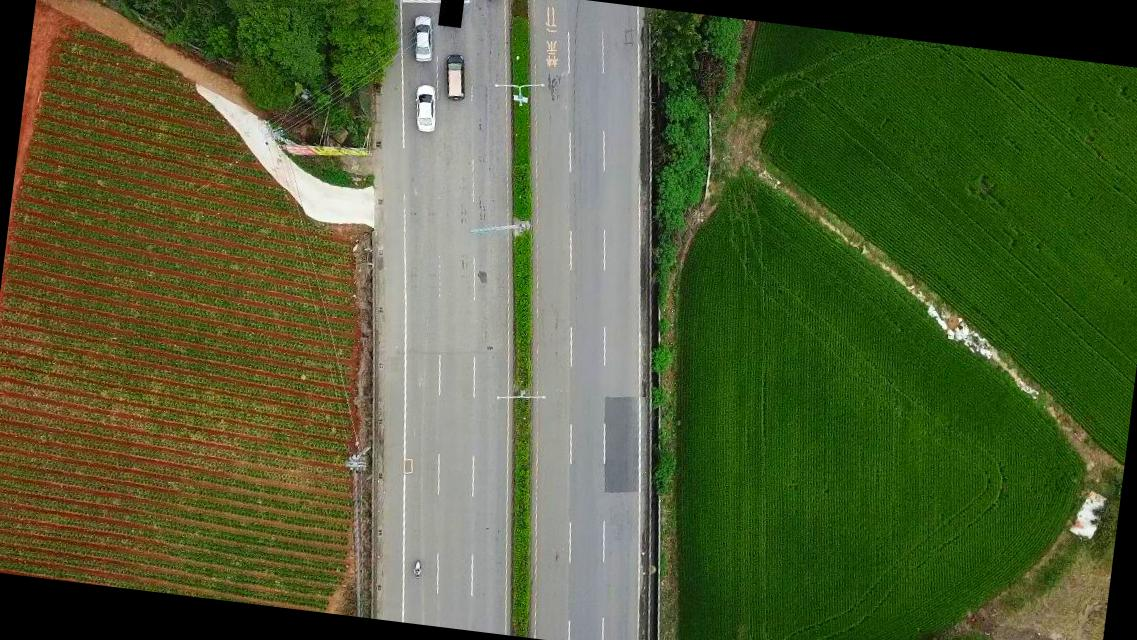vehicle: (406, 12, 438, 64), (438, 52, 470, 103), (409, 82, 440, 134)
